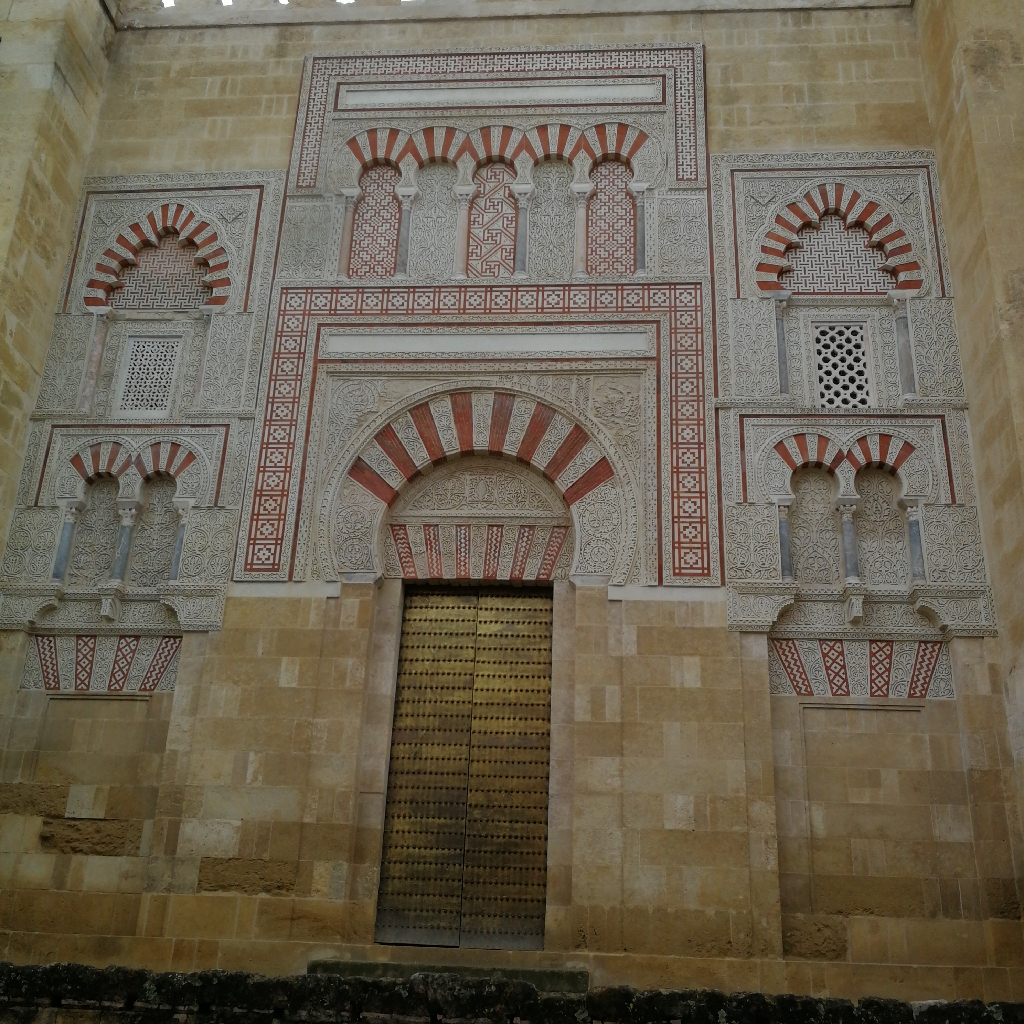arco-herradura: (362, 439, 588, 599), (780, 452, 847, 512), (848, 454, 912, 513), (523, 148, 584, 204), (584, 148, 641, 204), (350, 152, 408, 205), (130, 463, 185, 518), (465, 152, 524, 203), (69, 467, 129, 516), (408, 152, 463, 205)
arco-lobulado: (769, 199, 905, 315), (99, 221, 218, 321)
dintel-adovelado: (771, 633, 947, 703), (387, 519, 569, 581), (34, 628, 182, 695)
